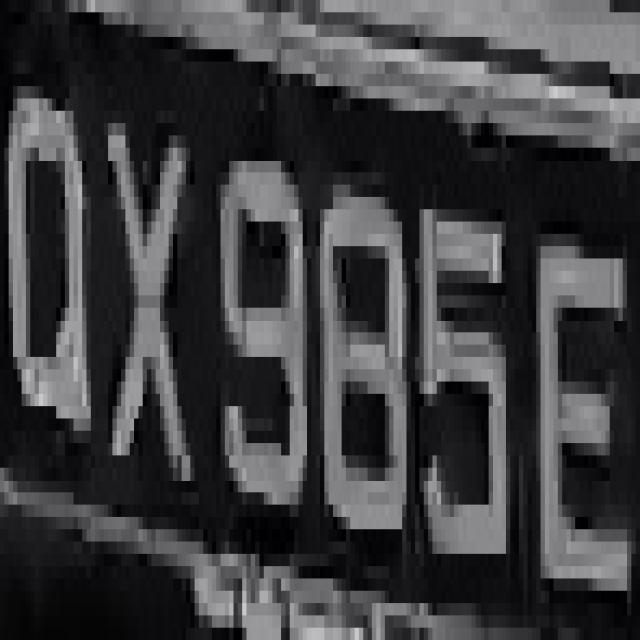5: (419, 172, 524, 578)
8: (311, 160, 411, 554)
9: (216, 136, 320, 530)
E: (528, 222, 632, 603)
Q: (4, 50, 104, 492)
X: (95, 74, 199, 517)
